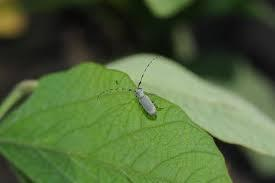Insects: (95, 55, 169, 123)
